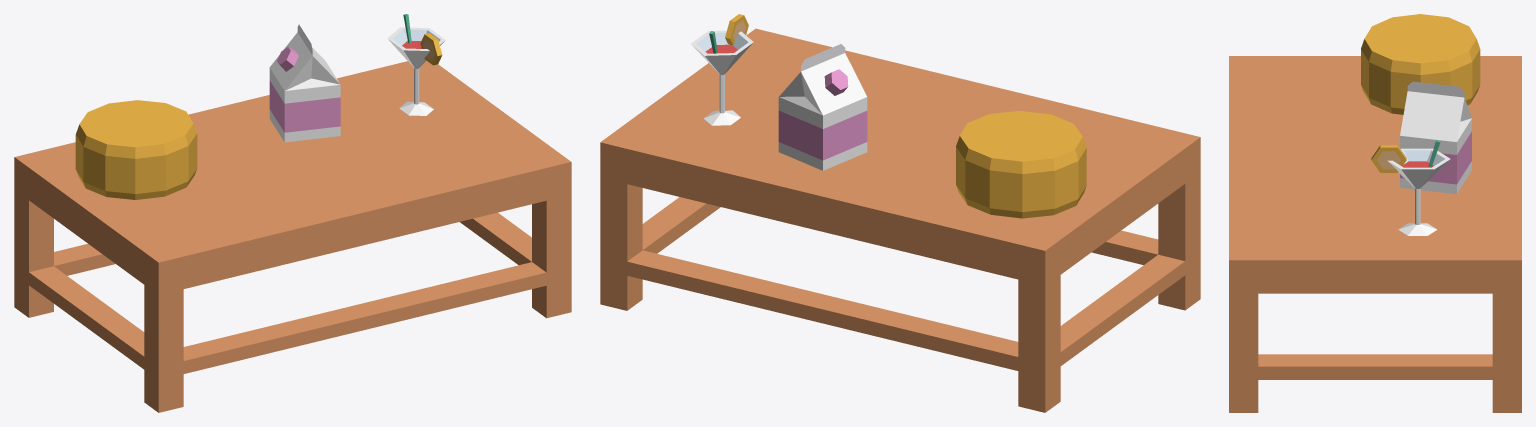
Rendered from Table1.fbx.
The picture shows the model from 3 angles, left to right: view 1: azimuth 30°, elevation 25°; view 2: azimuth 150°, elevation 25°; view 3: azimuth 270°, elevation 25°; orthographic projection. The views are drawn at different scales.
Visible parts, largest first — view 1: tableCoffee, cheese, cartonSmall, cocktail; view 2: tableCoffee, cheese, cartonSmall, cocktail; view 3: tableCoffee, cheese, cartonSmall, cocktail.
Part boxes in pixels (x1,y1,x2,y2): tableCoffee: (14, 60, 571, 412); cheese: (75, 100, 197, 199); cartonSmall: (269, 24, 340, 142); cocktail: (387, 14, 445, 115); tableCoffee: (600, 28, 1200, 412); cheese: (956, 110, 1086, 218); cartonSmall: (778, 44, 867, 170); cocktail: (691, 14, 753, 125); tableCoffee: (1229, 56, 1521, 412); cheese: (1361, 14, 1480, 114); cartonSmall: (1400, 81, 1471, 194); cocktail: (1371, 140, 1450, 235).
Bounding box in the file's own units: 13.22 × 7.46 × 8.
